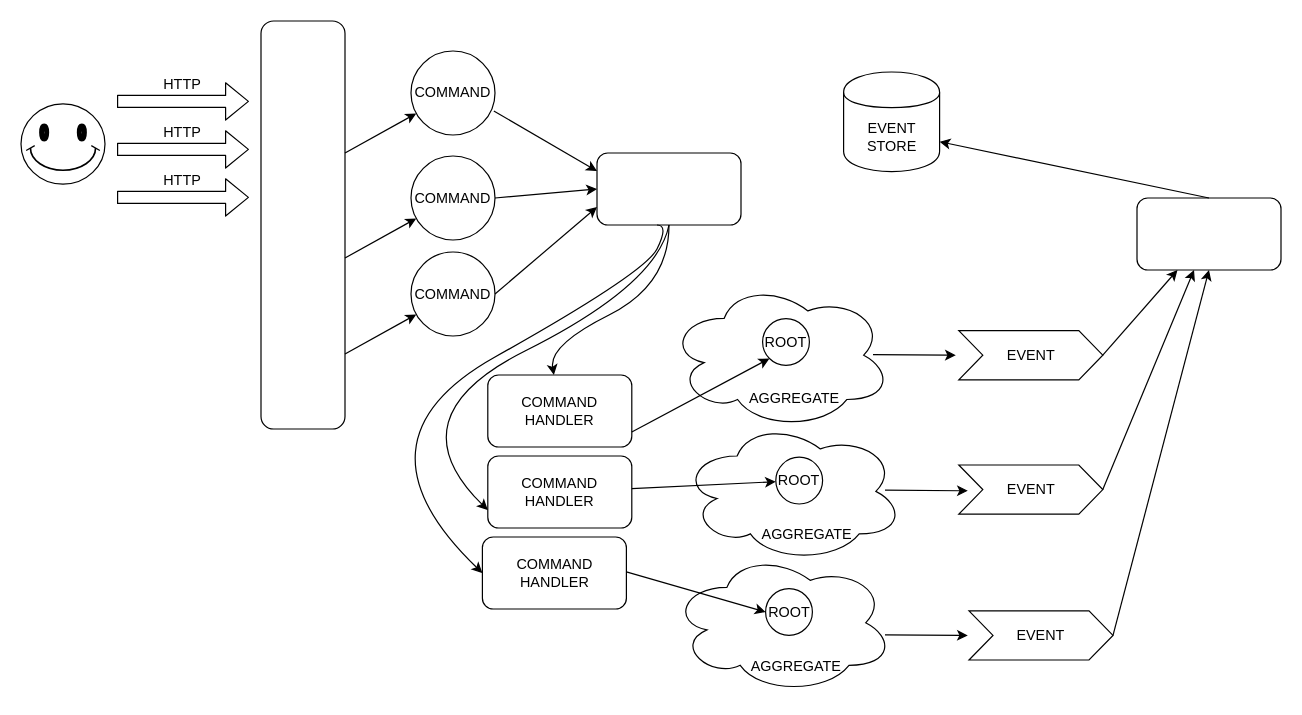
Some shapes in this 1302 by 715 pixel diagram are drawn without their labels. The box of each missing label's shape, as (x1, y1, x2, y2) in pixels:
AGGREGATE REPOSITORY: (1136, 197, 1281, 270)
API: (260, 20, 345, 429)
DISPATCHER: (596, 152, 741, 225)
